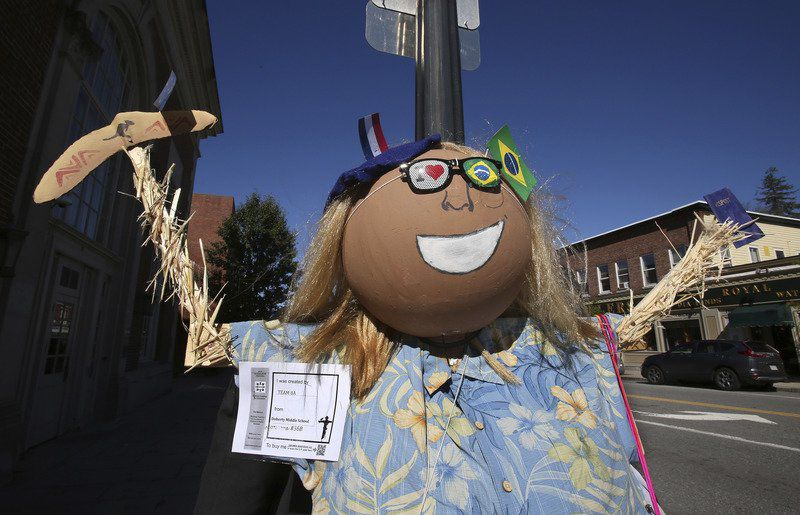person-like: (28, 96, 757, 515)
